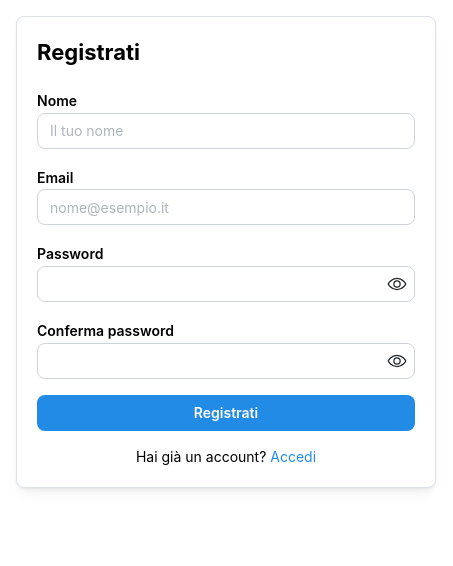
Test: RegisterPage › shows validation errors on empty submit
Step 1. Click the button "Registrati" → (226, 413), box [37,395,415,431]
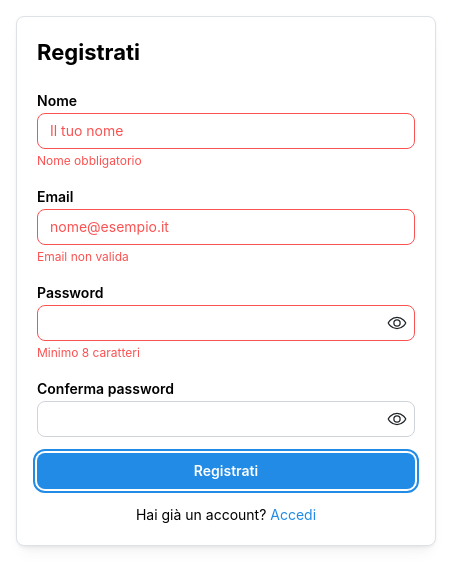
Expected: the text "Nome obbligatorio" is shown, [37,153,142,168]
Expected: the text "Email non valida" is shown, [37,249,129,264]
Expected: the text "Minimo 8 caratteri" is shown, [37,345,140,360]
